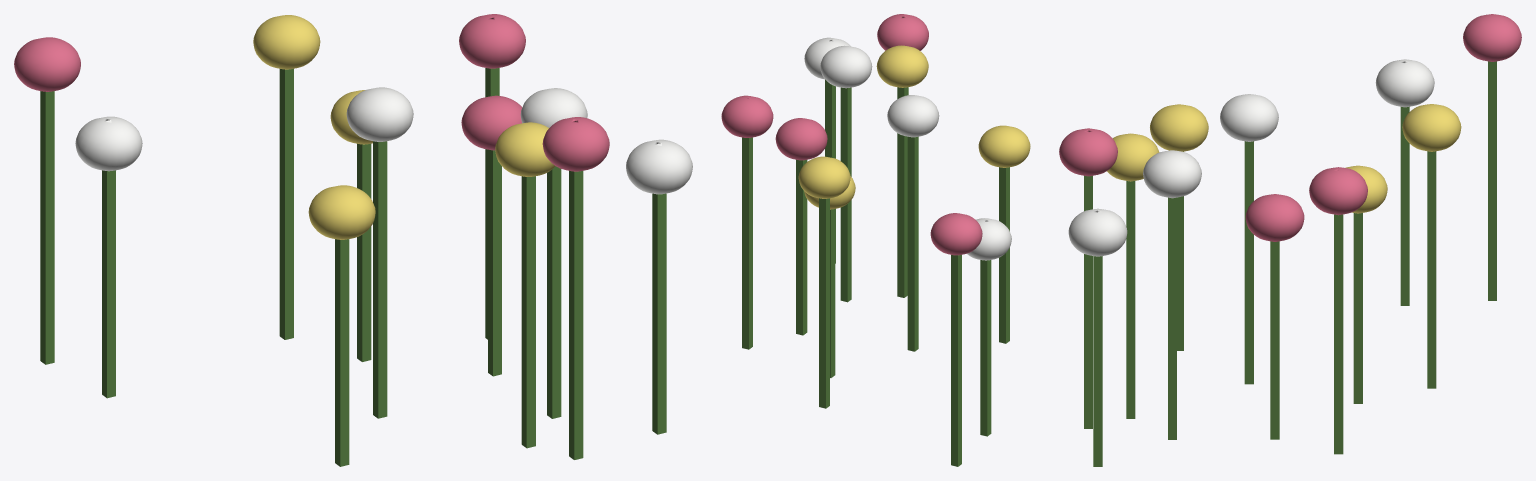
File: f19-flower-meadow-patch.glb
The picture shows the model from 3 angles, left to right: view 1: azimuth 30°, elevation 25°; view 2: azimuth 150°, elevation 25°; view 3: azimuth 270°, elevation 25°; orthographic projection. The views are drawn at different scales.
Parts seen in each view (by area): view 1: part0, part1, part12, part4, part6, part3, part8, part11, part2, part10, part5, part9 (+1 smaller); view 2: part0, part4, part1, part11, part2, part5, part10, part3, part9, part8, part6, part12 (+1 smaller); view 3: part0, part5, part6, part2, part4, part9, part12, part3, part8, part11, part1, part10 (+1 smaller).
Boxes of the visible parts, <box> form: part0: <box>40,68,666,466</box>; part1: <box>308,185,375,239</box>; part12: <box>626,139,692,194</box>; part4: <box>253,15,320,69</box>; part6: <box>75,116,142,171</box>; part3: <box>346,87,413,141</box>; part8: <box>542,117,609,171</box>; part11: <box>14,37,80,91</box>; part2: <box>459,14,525,68</box>; part10: <box>495,122,555,176</box>; part5: <box>461,95,522,150</box>; part9: <box>520,88,587,127</box>; part0: <box>742,79,1009,466</box>; part4: <box>798,156,850,198</box>; part1: <box>978,125,1030,167</box>; part11: <box>930,213,982,255</box>; part2: <box>721,95,773,137</box>; part5: <box>775,118,827,160</box>; part10: <box>876,45,928,87</box>; part3: <box>887,95,939,137</box>; part9: <box>820,45,872,88</box>; part8: <box>877,14,928,50</box>; part6: <box>967,218,1011,260</box>; part12: <box>804,37,850,79</box>; part0: <box>1084,61,1496,466</box>; part5: <box>1245,194,1304,241</box>; part6: <box>1375,59,1434,107</box>; part2: <box>1309,167,1367,215</box>; part4: <box>1402,104,1461,151</box>; part9: <box>1143,150,1201,198</box>; part12: <box>1068,208,1127,256</box>; part3: <box>1220,94,1278,141</box>; part8: <box>1059,128,1117,176</box>; part11: <box>1463,14,1521,61</box>; part1: <box>1150,104,1208,151</box>; part10: <box>1107,133,1159,181</box>.
Size of the model in its own units: 689 by 498 by 706.
